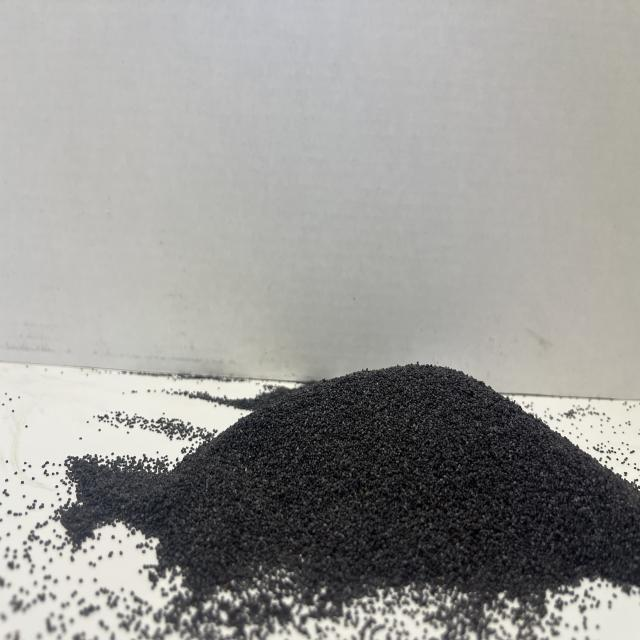Poppy Seeds: (62, 276, 635, 630)
